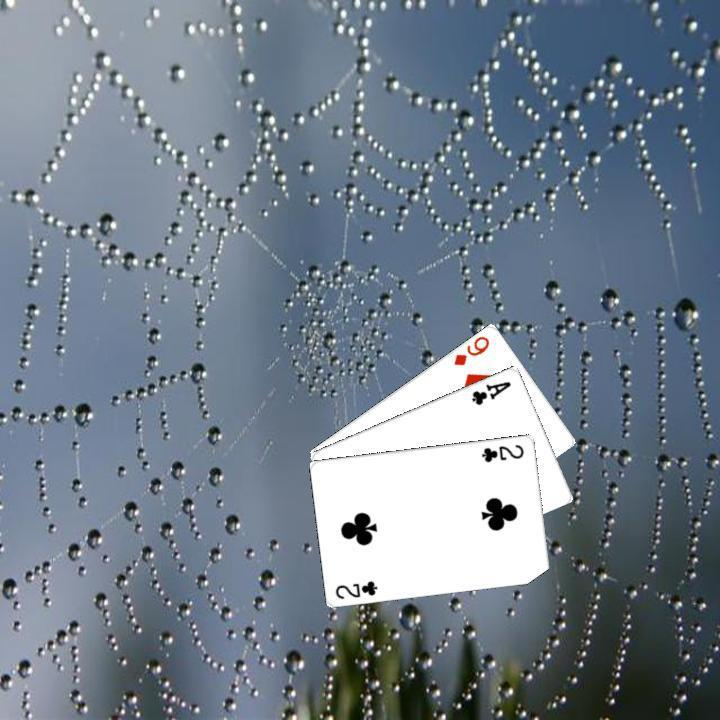2: (331, 576, 380, 601), (478, 439, 526, 464)
9: (449, 331, 492, 367)
A: (467, 376, 513, 407)
